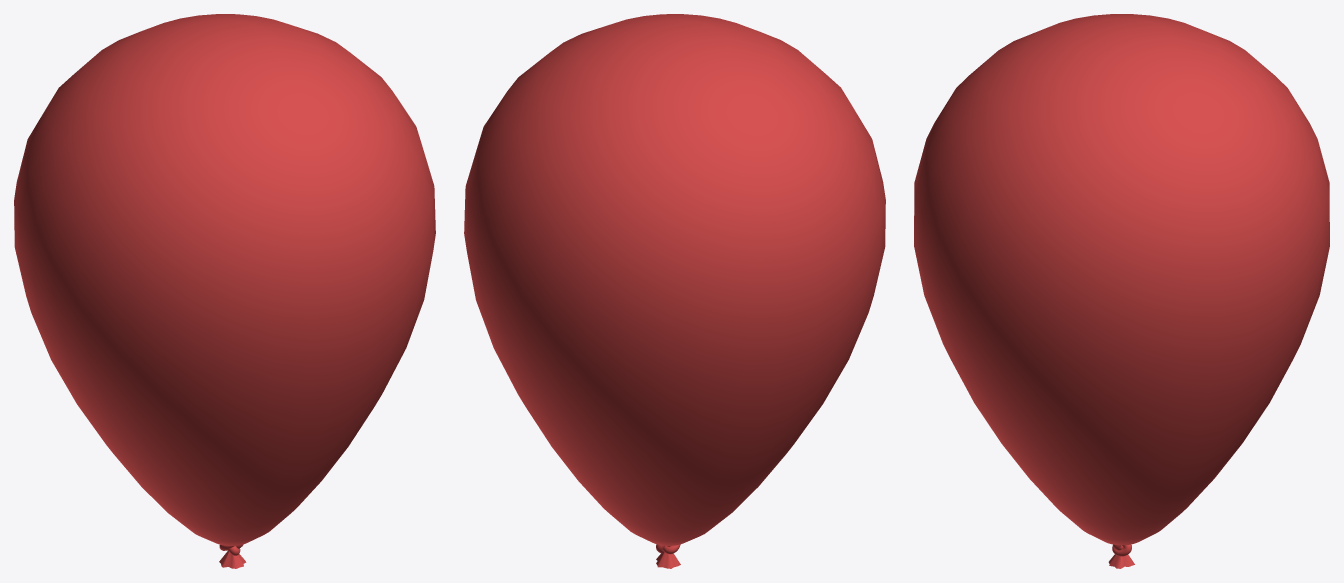
The model's file is Baloon.FBX.
The picture shows the model from 3 angles, left to right: view 1: azimuth 30°, elevation 25°; view 2: azimuth 150°, elevation 25°; view 3: azimuth 270°, elevation 25°; orthographic projection.
Parts seen in each view (by area): view 1: balloon059; view 2: balloon059; view 3: balloon059.
Boxes of the visible parts, x1,y1,x2,y2 form: balloon059: (14,14,435,545); balloon059: (464,14,885,545); balloon059: (914,14,1329,545).
Bounding box in the file's own units: 10.94 × 15.2 × 10.93.
